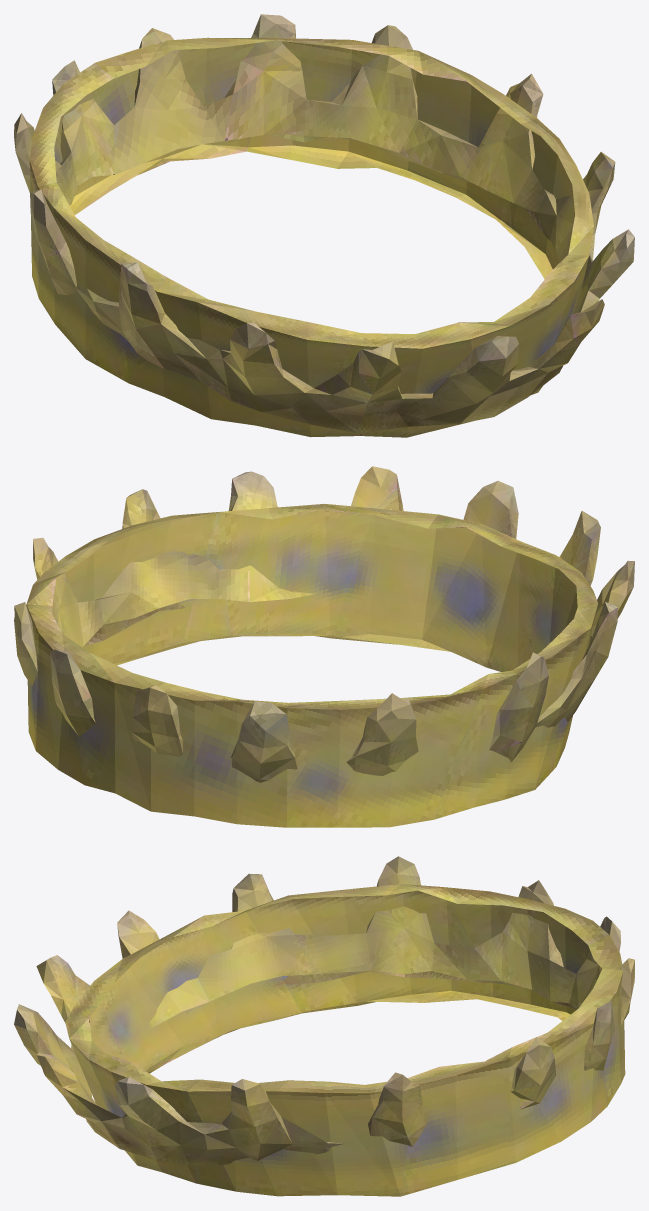
The model's file is ewm_t2kingarthur_hat.glb.
3 renders of one model, top to bottom at view 1: azimuth 30°, elevation 25°; view 2: azimuth 150°, elevation 25°; view 3: azimuth 270°, elevation 25°, orthographic. The views are drawn at different scales.
Parts seen in each view (by area): view 1: ewm_t2kingarthur_hat; view 2: ewm_t2kingarthur_hat; view 3: ewm_t2kingarthur_hat.
Boxes of the visible parts, left/top/right/bottom form: ewm_t2kingarthur_hat: left=14, top=14, right=634, bottom=437; ewm_t2kingarthur_hat: left=14, top=466, right=634, bottom=827; ewm_t2kingarthur_hat: left=14, top=856, right=634, bottom=1196.
Size of the model in its own units: 0.3008 by 0.1063 by 0.3664.
1 material, 1 textured.
